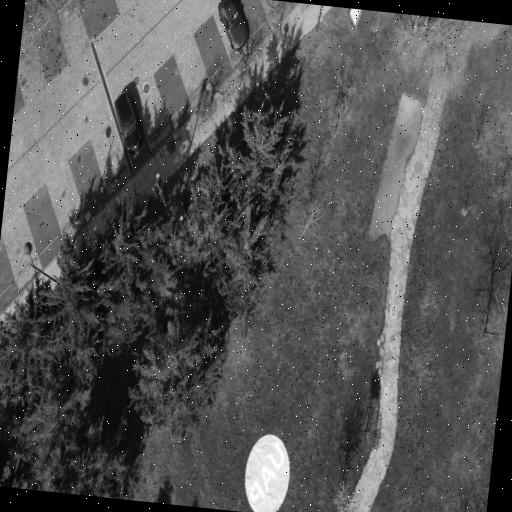UAP: (245, 435, 290, 512)
car: (217, 0, 248, 53), (114, 91, 140, 151)
